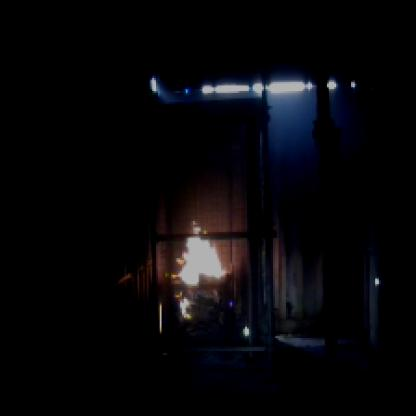Fire: (173, 228, 241, 318)
